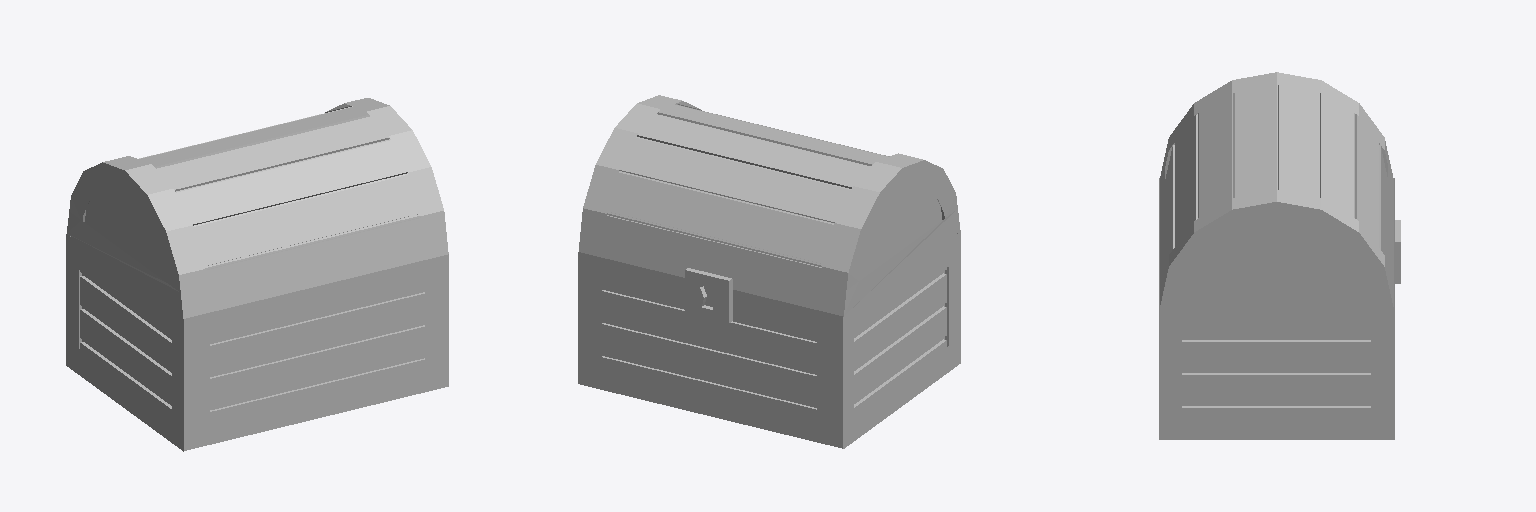
File: Сундук.obj
3 renders of one model, left to right at view 1: azimuth 30°, elevation 25°; view 2: azimuth 150°, elevation 25°; view 3: azimuth 270°, elevation 25°, orthographic.
Visible parts, largest first — view 1: Metal_Cylinder, Cylinder_Cylinder.001, Cube; view 2: Metal_Cylinder, Cylinder_Cylinder.001, Cube, Cube.001; view 3: Metal_Cylinder, Cylinder_Cylinder.001, Cube.
Boxes of the visible parts, x1,y1,x2,y2 form: Metal_Cylinder: [66, 98, 448, 451]; Cylinder_Cylinder.001: [82, 106, 421, 285]; Cube: [76, 244, 424, 417]; Metal_Cylinder: [578, 95, 960, 448]; Cylinder_Cylinder.001: [605, 104, 945, 283]; Cube: [602, 236, 953, 415]; Cube.001: [685, 268, 732, 322]; Metal_Cylinder: [1159, 72, 1394, 439]; Cylinder_Cylinder.001: [1165, 85, 1387, 282]; Cube: [1182, 334, 1373, 412].
Size of the model in its own units: 4.2 by 3.6 by 3.32.